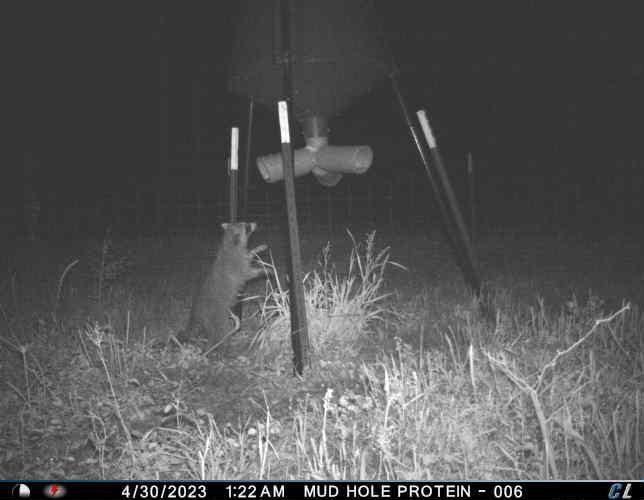Raccoon: (166, 214, 275, 355)
